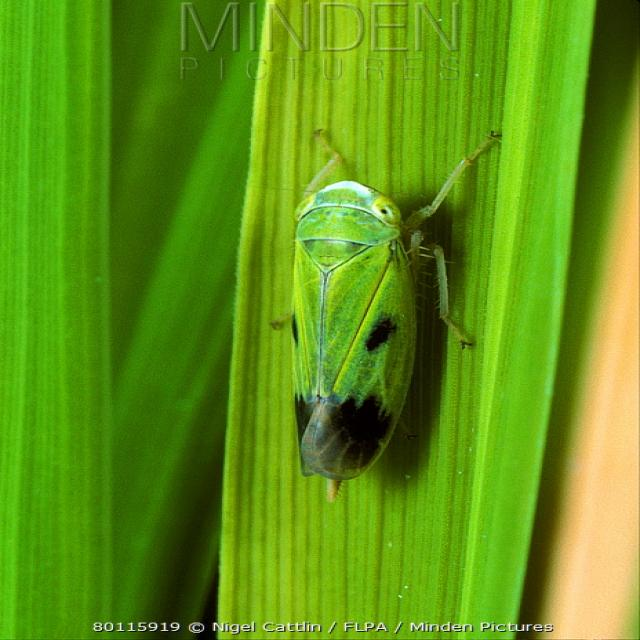Yechan: (239, 106, 522, 510)
